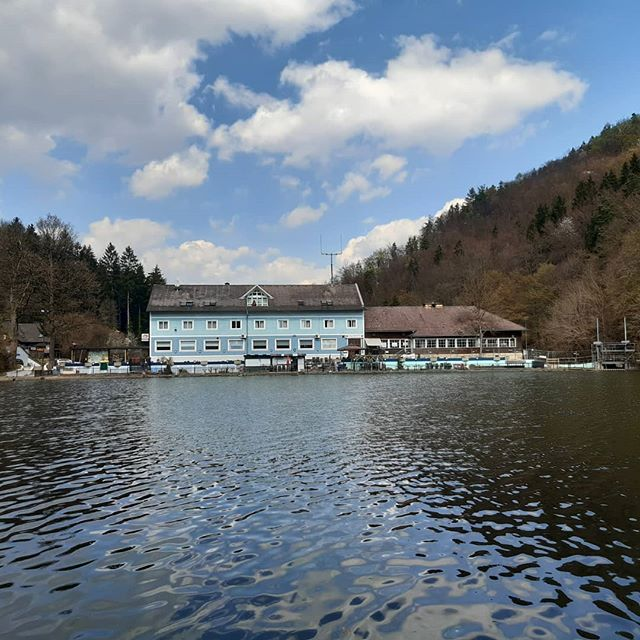building: (152, 277, 363, 369), (366, 302, 527, 356)
river: (12, 371, 640, 640)
sky: (1, 1, 640, 220)
vegetation: (372, 133, 640, 327), (1, 235, 162, 353)
